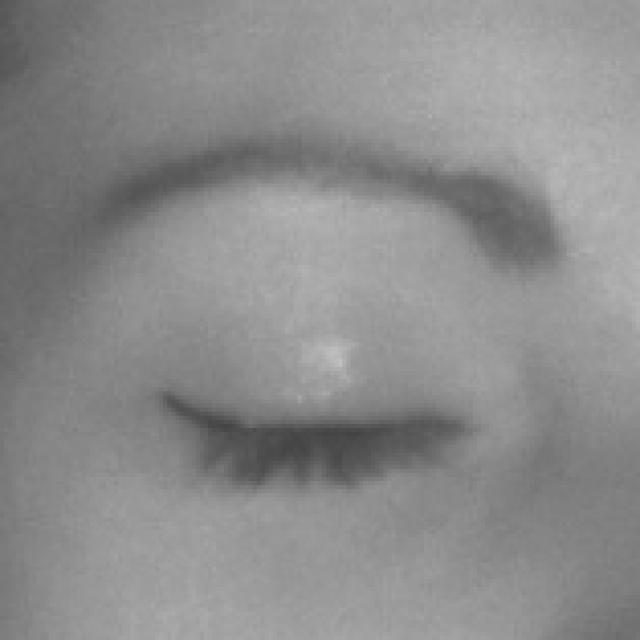close: (0, 75, 633, 587)
